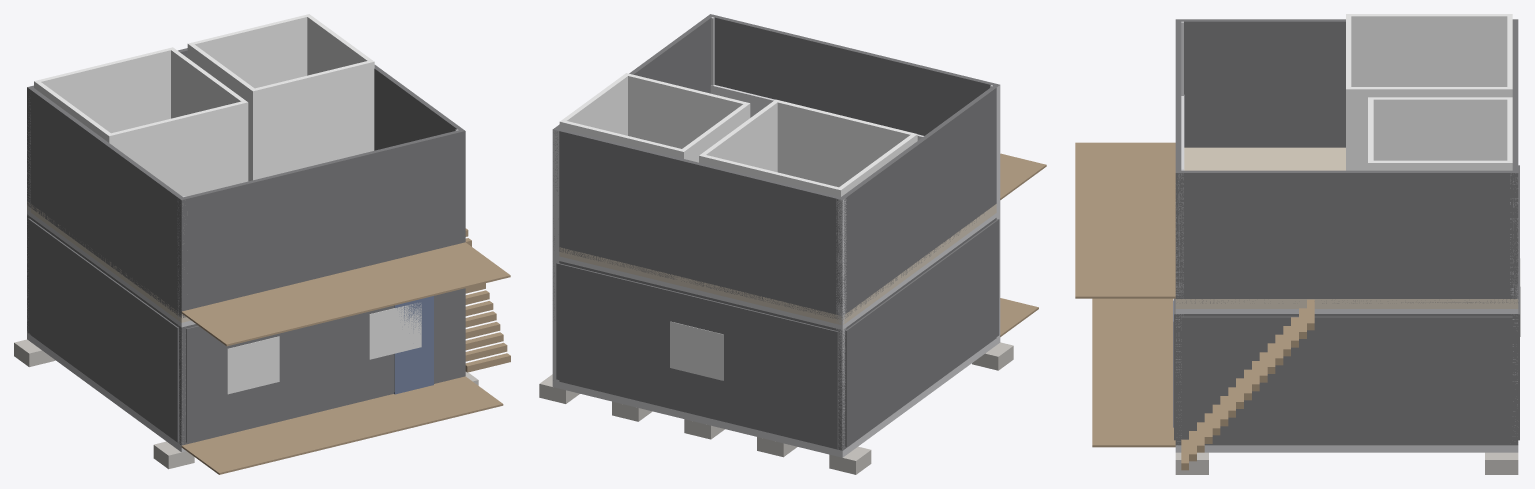
Rendered from Duplex-20-Base-CharcoalSilver-LOD1.glb.
3 views of the same model, side by side, from view 1: azimuth 30°, elevation 25°; view 2: azimuth 150°, elevation 25°; view 3: azimuth 270°, elevation 25° (orthographic). The views are drawn at different scales.
Visible parts, largest first — view 1: ExteriorShellUpper, ExteriorPanelsStandard, StudyUpper, BedroomUpper, BalconyUpper, BalconyGround, WindowsStandard, StaircaseExternal, EntryDoor, ExteriorShell, FoundationBlocks, BaseFrame (+3 smaller); view 2: ExteriorShellUpper, ExteriorPanelsStandard, BedroomUpper, StudyUpper, VerticalStructure, FloorUpper, FoundationBlocks, BaseFrame, ExteriorShell, WindowsStandard, TopFrame, BalconyUpper (+2 smaller); view 3: ExteriorShellUpper, ExteriorPanelsStandard, BalconyUpper, BedroomUpper, BalconyGround, StudyUpper, FloorUpper, StaircaseExternal, ExteriorShell, BaseFrame, TopFrame, FoundationBlocks (+1 smaller).
Boxes of the visible parts, x1=… form: ExteriorShellUpper: x1=27, y1=48, x2=465, y2=317; ExteriorPanelsStandard: x1=28, y1=218, x2=461, y2=442; StudyUpper: x1=187, y1=14, x2=374, y2=181; BedroomUpper: x1=34, y1=47, x2=248, y2=196; BalconyUpper: x1=181, y1=242, x2=510, y2=346; BalconyGround: x1=181, y1=376, x2=503, y2=474; WindowsStandard: x1=227, y1=303, x2=421, y2=394; StaircaseExternal: x1=465, y1=228, x2=510, y2=372; EntryDoor: x1=394, y1=296, x2=433, y2=394; ExteriorShell: x1=27, y1=214, x2=465, y2=445; FoundationBlocks: x1=14, y1=339, x2=478, y2=469; BaseFrame: x1=27, y1=333, x2=186, y2=452; ExteriorShellUpper: x1=553, y1=14, x2=999, y2=320; ExteriorPanelsStandard: x1=556, y1=219, x2=999, y2=447; BedroomUpper: x1=699, y1=99, x2=917, y2=197; StudyUpper: x1=559, y1=73, x2=750, y2=162; VerticalStructure: x1=552, y1=17, x2=1000, y2=449; FloorUpper: x1=553, y1=204, x2=996, y2=325; FoundationBlocks: x1=539, y1=342, x2=1013, y2=474; BaseFrame: x1=552, y1=336, x2=1000, y2=457; ExteriorShell: x1=553, y1=218, x2=996, y2=450; WindowsStandard: x1=670, y1=321, x2=723, y2=380; TopFrame: x1=559, y1=213, x2=996, y2=329; BalconyUpper: x1=1000, y1=153, x2=1046, y2=199; ExteriorShellUpper: x1=1175, y1=19, x2=1518, y2=303; ExteriorPanelsStandard: x1=1174, y1=165, x2=1519, y2=443; BalconyUpper: x1=1075, y1=142, x2=1175, y2=298; BedroomUpper: x1=1346, y1=14, x2=1512, y2=170; BalconyGround: x1=1092, y1=298, x2=1175, y2=447; StudyUpper: x1=1368, y1=97, x2=1512, y2=170; FloorUpper: x1=1175, y1=147, x2=1518, y2=308; StaircaseExternal: x1=1181, y1=299, x2=1314, y2=470; ExteriorShell: x1=1175, y1=314, x2=1518, y2=445; BaseFrame: x1=1175, y1=445, x2=1518, y2=452; TopFrame: x1=1175, y1=309, x2=1518, y2=313; FoundationBlocks: x1=1175, y1=452, x2=1518, y2=474.
Size of the model in its own units: 7.94 by 6 by 8.
